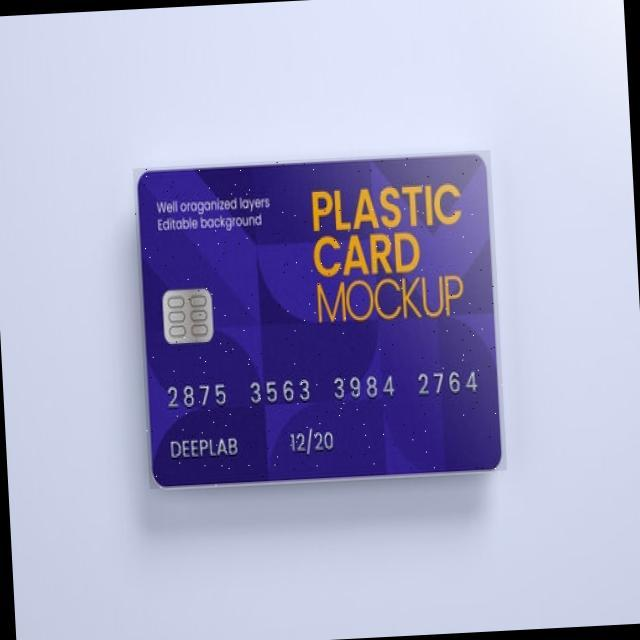payment_card: (134, 149, 503, 490)
